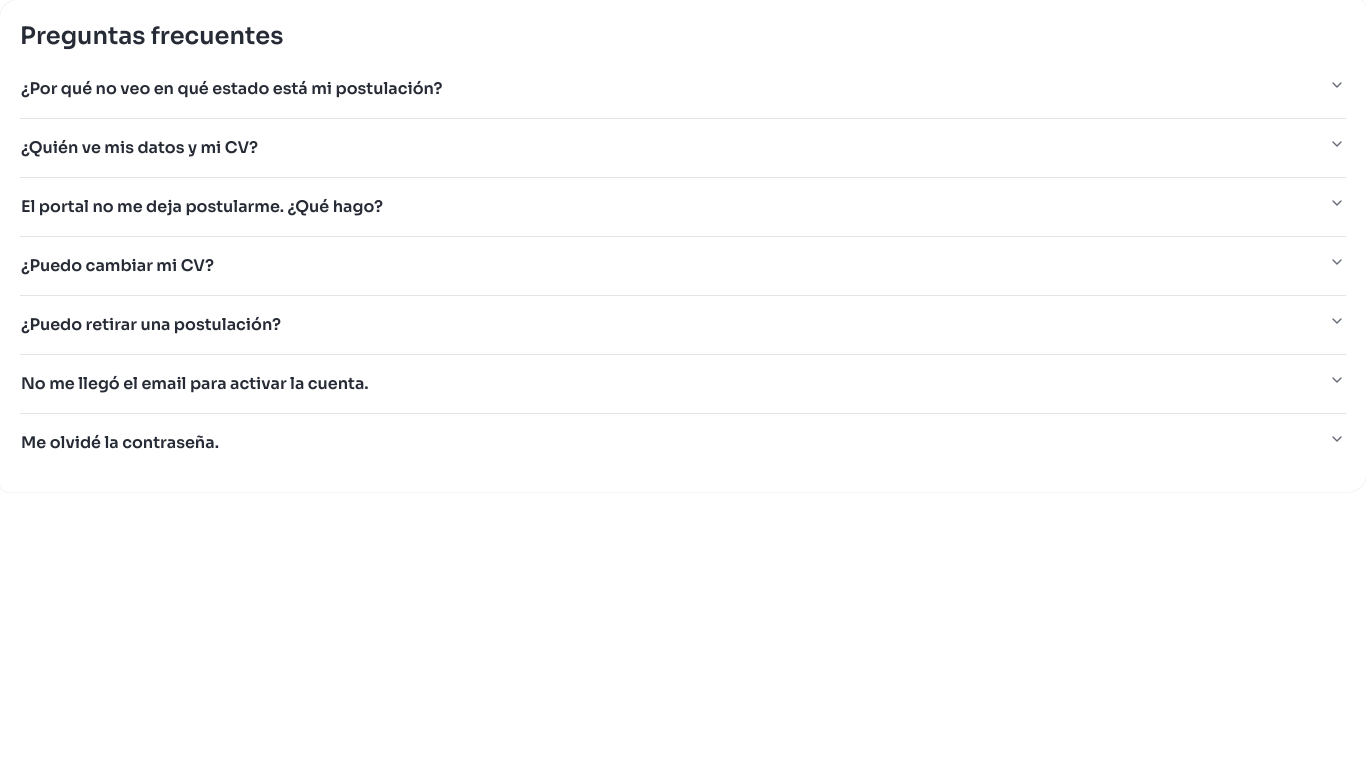
Scenario: PreguntasFrecuentes › lists every question and opens an answer in place
The width and height of the screenshot is (1366, 768).
Click the button "¿Por qué no veo en qué estado está mi postulación?".
click(232, 88)  # box [20, 60, 1346, 118]
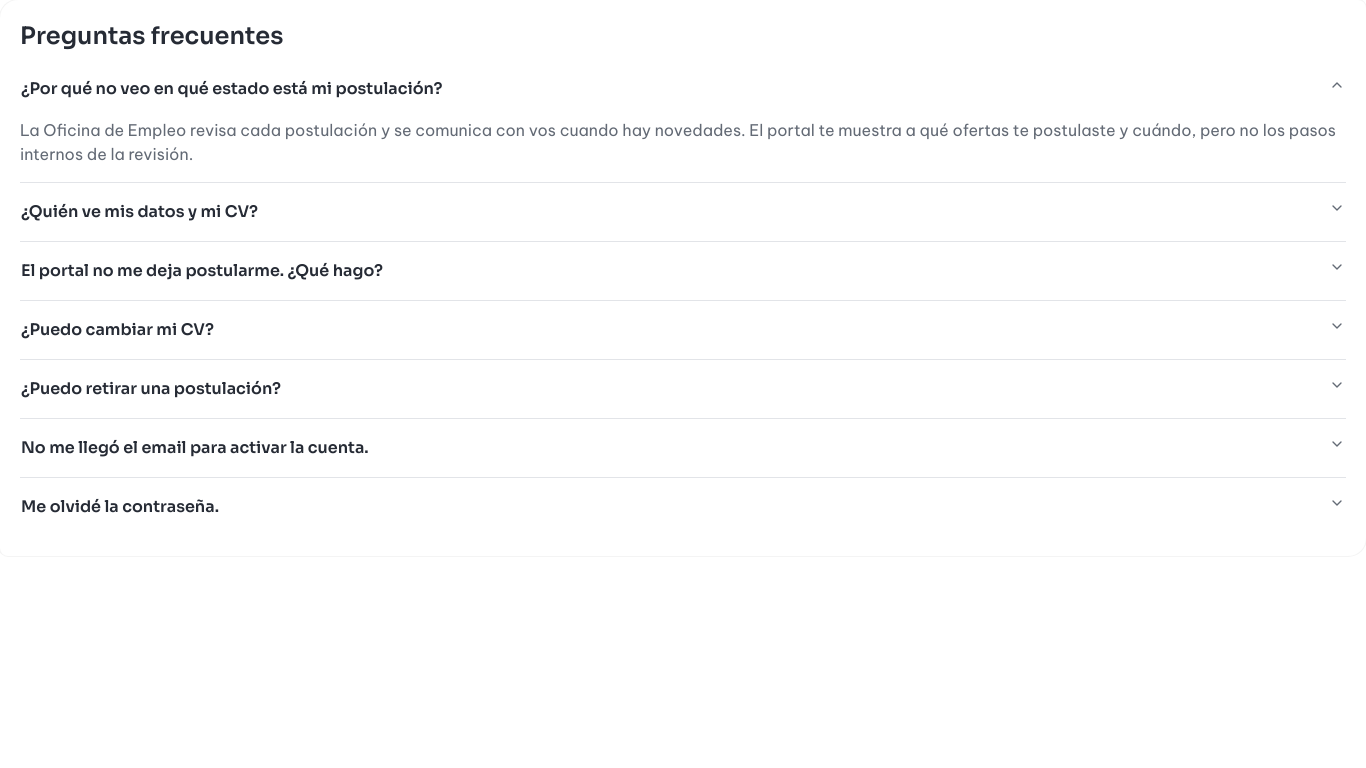
Now the text "La Oficina de Empleo revisa cada postulación y se comunica con vos cuando hay novedades. El portal te muestra a qué ofer" is shown, box [20, 120, 1336, 164]
